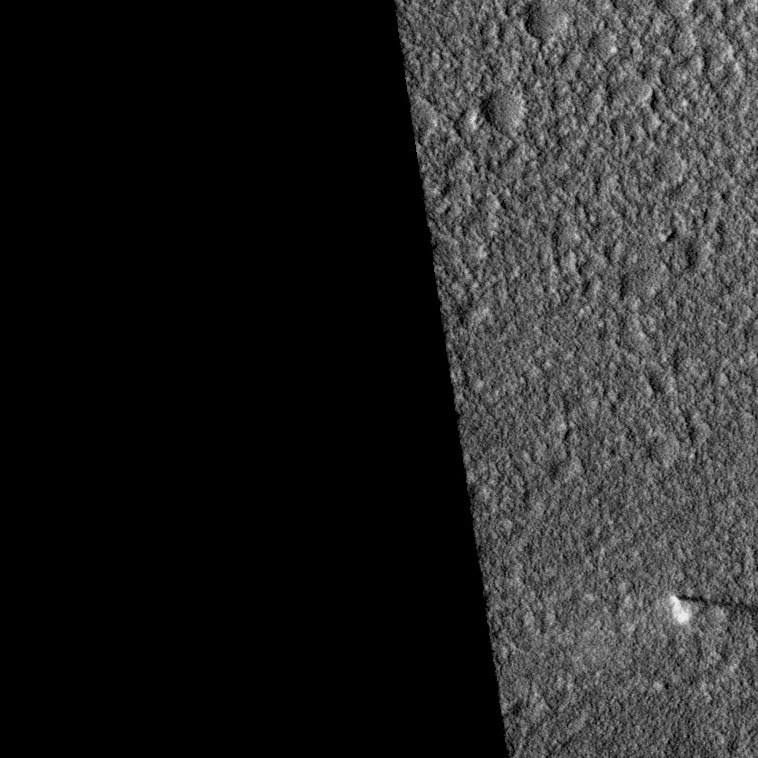dust_devil: (668, 593, 758, 627)
